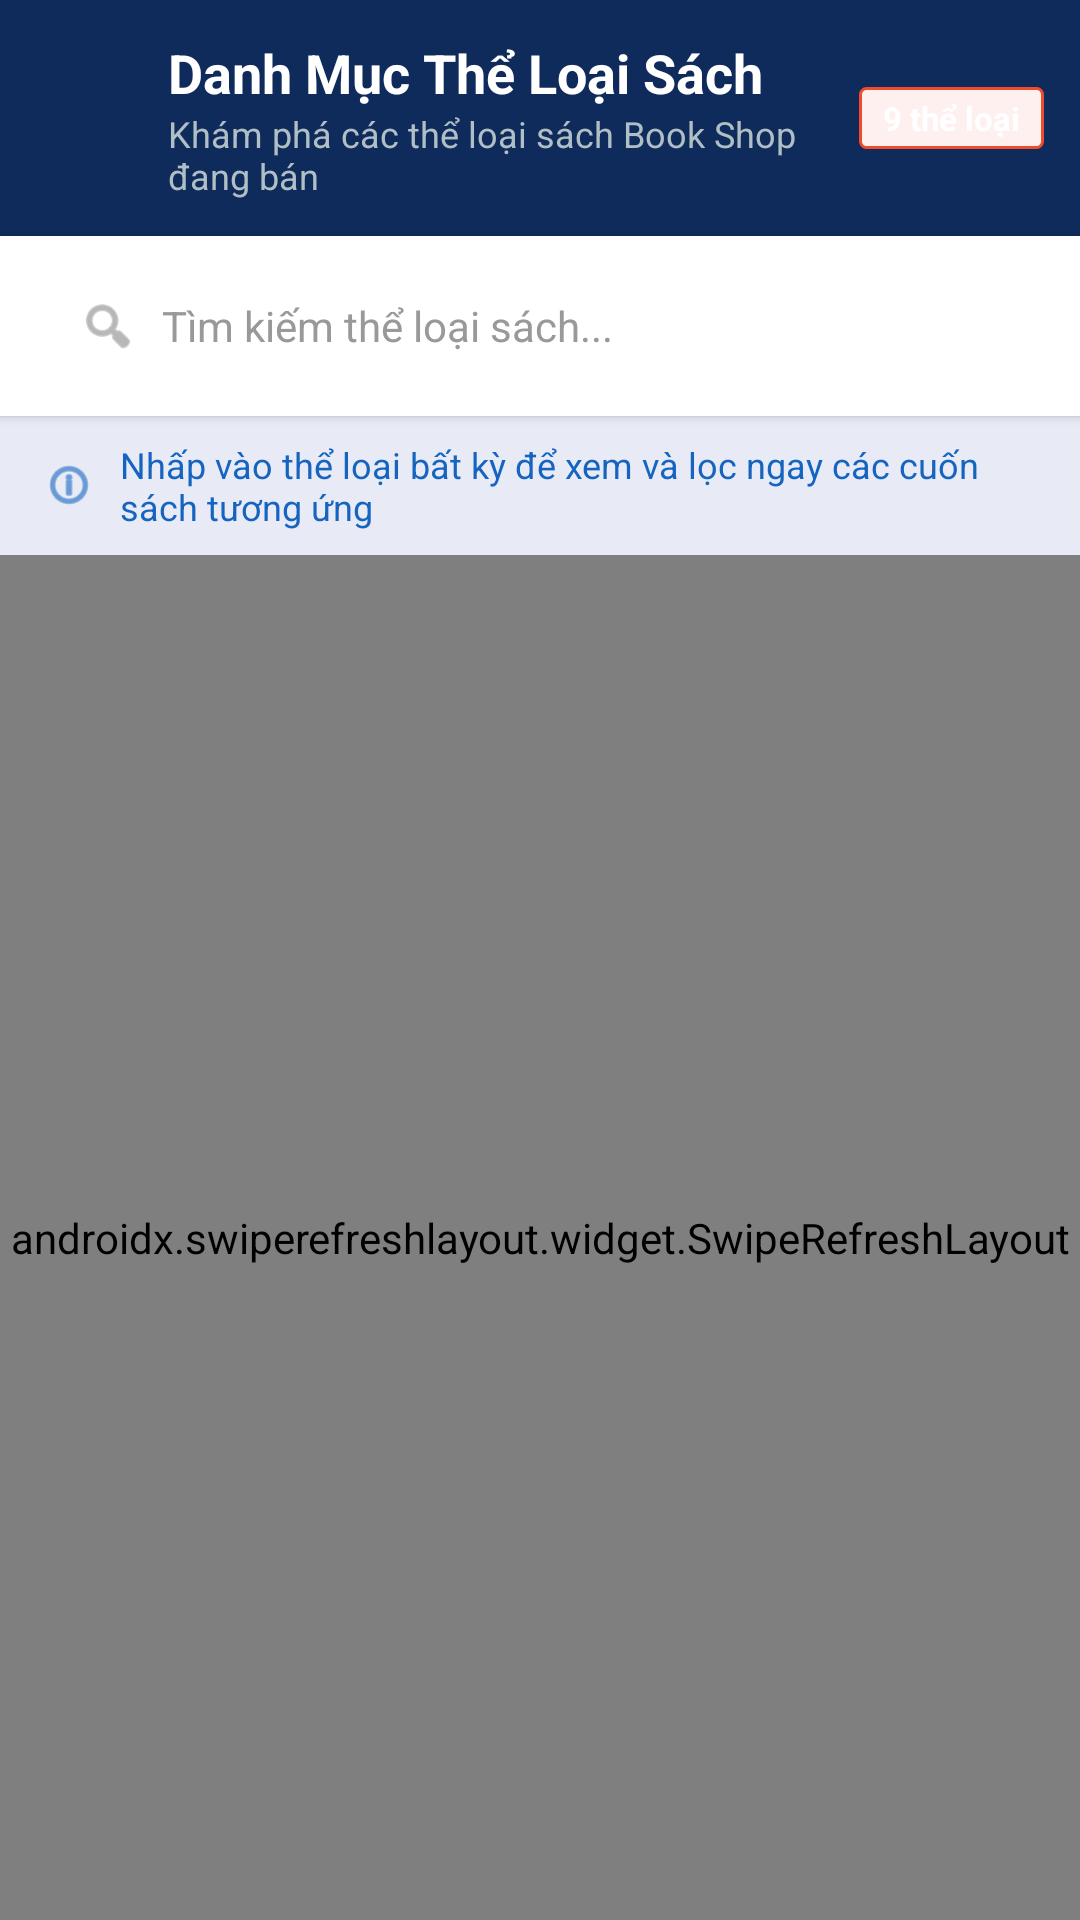

Screen size 1080w x 1920h. Icon name, then its box in pixels as bbox=[x1, y1, x2, y2]:
info details: bbox=[50, 466, 88, 504]
search: bbox=[86, 304, 130, 348]
